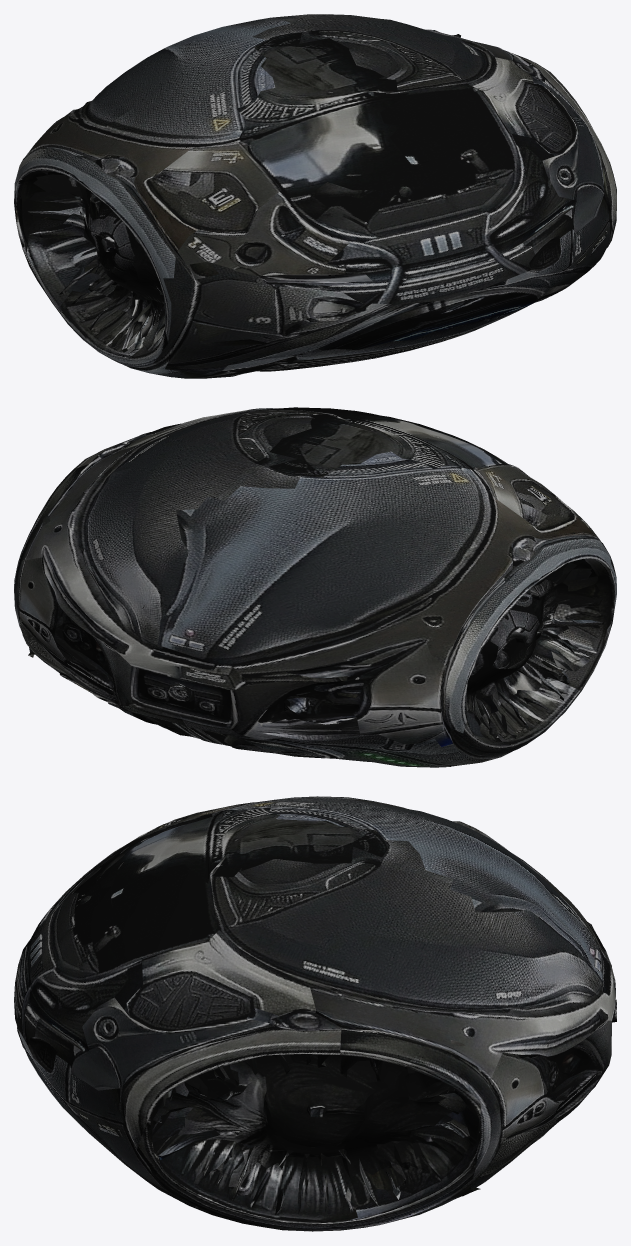
Rendered from orb.glb.
3 views of the same model, one above another, from view 1: azimuth 30°, elevation 25°; view 2: azimuth 150°, elevation 25°; view 3: azimuth 270°, elevation 25° (orthographic). The views are drawn at different scales.
Visible parts, largest first — view 1: geometry_0; view 2: geometry_0; view 3: geometry_0.
Part boxes in pixels (bbox=[...]): geometry_0: bbox=[14, 14, 616, 378]; geometry_0: bbox=[14, 407, 616, 767]; geometry_0: bbox=[14, 796, 616, 1231].
Bounding box in the file's own units: 3.82 × 2.13 × 3.89.
Materials: 1 (1 with a texture image).
